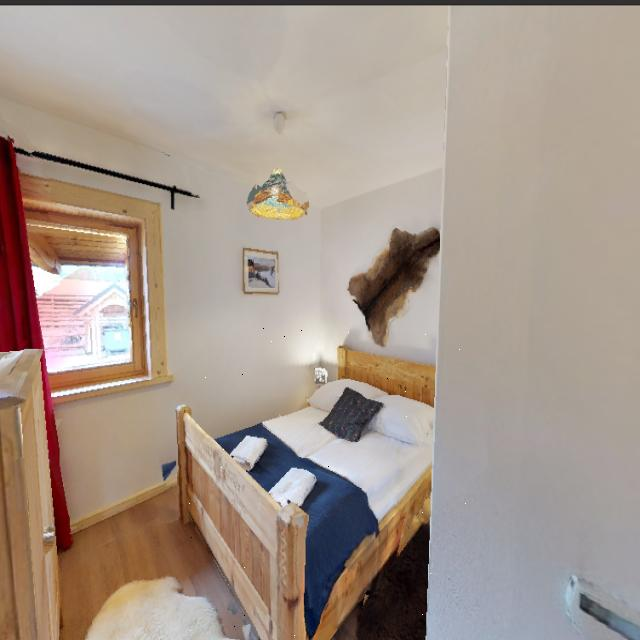bed: (166, 326, 476, 640)
